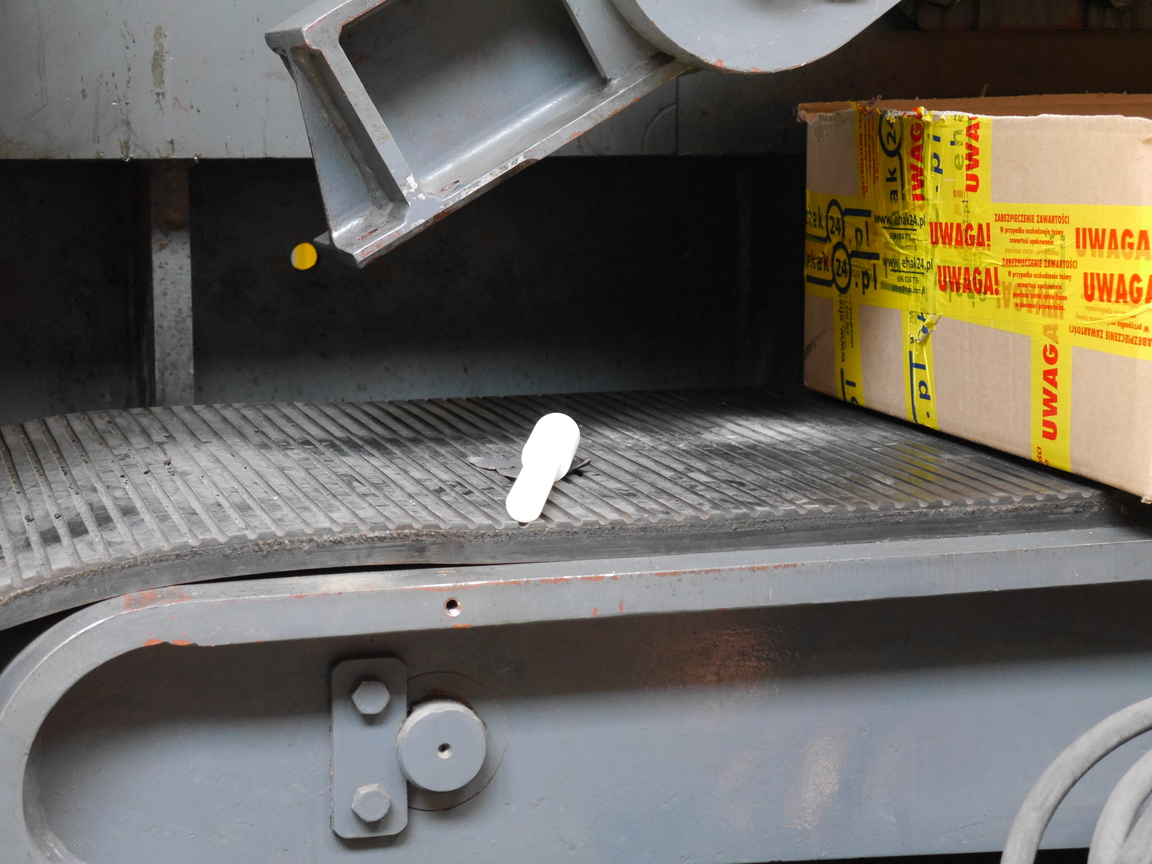cargo_g: (506, 412, 582, 521)
